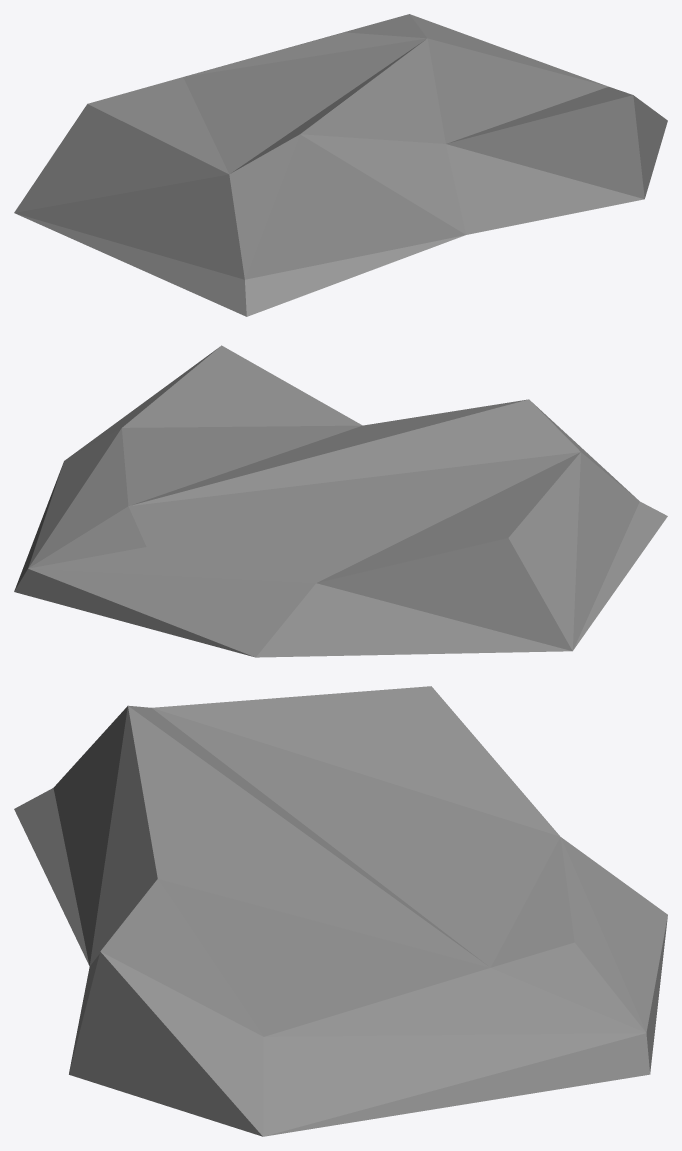
File: Stone_B_10.FBX
3 views of the same model, one above another, from view 1: azimuth 30°, elevation 25°; view 2: azimuth 150°, elevation 25°; view 3: azimuth 270°, elevation 25° (orthographic). The views are drawn at different scales.
Visible parts, largest first — view 1: Stone_B_10; view 2: Stone_B_10; view 3: Stone_B_10.
Boxes of the visible parts, x1=… form: Stone_B_10: x1=14, y1=14, x2=667, y2=316; Stone_B_10: x1=14, y1=345, x2=667, y2=657; Stone_B_10: x1=14, y1=686, x2=667, y2=1136.
Bounding box in the file's own units: 4.23 × 0.8771 × 3.15.
